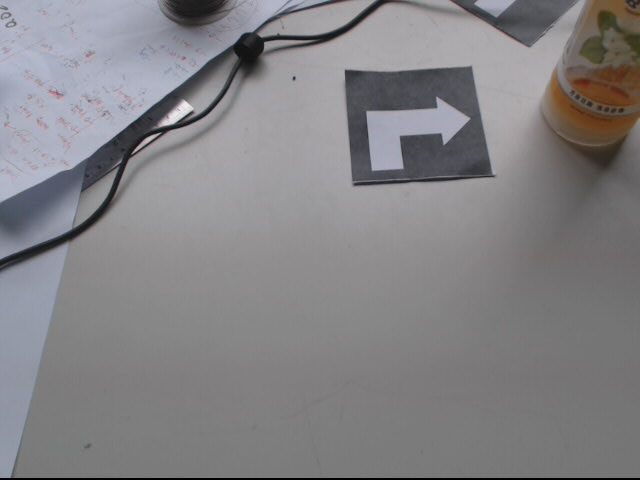right: (345, 67, 494, 185)
